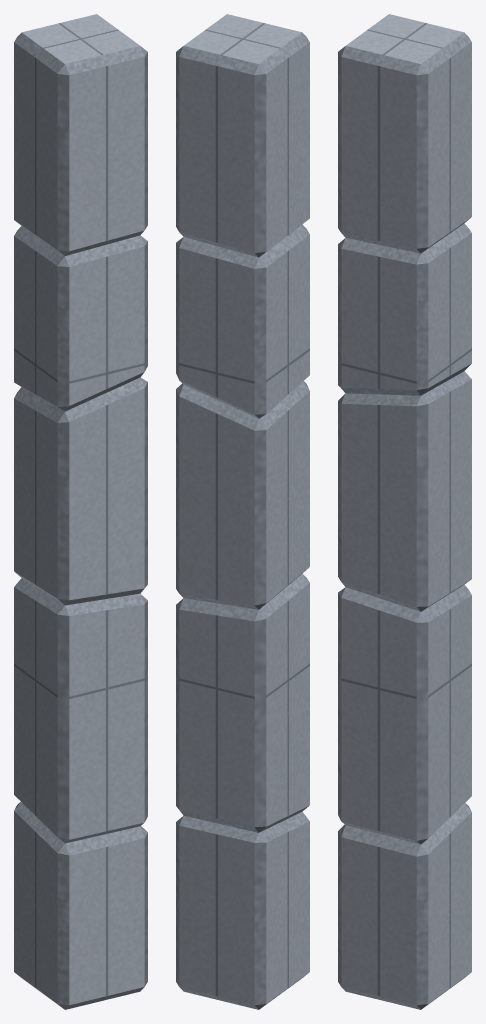
File: Kit_Steel_Joint_Fractured.glb
3 renders of one model, left to right at view 1: azimuth 30°, elevation 25°; view 2: azimuth 150°, elevation 25°; view 3: azimuth 330°, elevation 25°, orthographic.
Parts seen in each view (by area): view 1: Kit_Steel_Joint_frag_02, Kit_Steel_Joint_frag_05, Kit_Steel_Joint_frag_03, Kit_Steel_Joint_frag_01, Kit_Steel_Joint_frag_04; view 2: Kit_Steel_Joint_frag_02, Kit_Steel_Joint_frag_05, Kit_Steel_Joint_frag_03, Kit_Steel_Joint_frag_01, Kit_Steel_Joint_frag_04; view 3: Kit_Steel_Joint_frag_02, Kit_Steel_Joint_frag_05, Kit_Steel_Joint_frag_03, Kit_Steel_Joint_frag_01, Kit_Steel_Joint_frag_04.
Boxes of the visible parts, <box> form: Kit_Steel_Joint_frag_02: <box>14,578,147,843</box>; Kit_Steel_Joint_frag_05: <box>14,14,147,255</box>; Kit_Steel_Joint_frag_03: <box>14,377,147,605</box>; Kit_Steel_Joint_frag_01: <box>14,802,147,1009</box>; Kit_Steel_Joint_frag_04: <box>14,226,147,411</box>; Kit_Steel_Joint_frag_02: <box>176,574,309,832</box>; Kit_Steel_Joint_frag_05: <box>176,14,309,257</box>; Kit_Steel_Joint_frag_03: <box>176,381,309,609</box>; Kit_Steel_Joint_frag_01: <box>176,811,309,1009</box>; Kit_Steel_Joint_frag_04: <box>176,224,309,418</box>; Kit_Steel_Joint_frag_02: <box>338,584,471,844</box>; Kit_Steel_Joint_frag_05: <box>338,14,471,253</box>; Kit_Steel_Joint_frag_03: <box>338,371,471,611</box>; Kit_Steel_Joint_frag_01: <box>338,803,471,1009</box>; Kit_Steel_Joint_frag_04: <box>338,223,471,395</box>.
Size of what is drawn, in the model's own units: 0.3 by 3 by 0.3.
2 materials, 2 textured.
